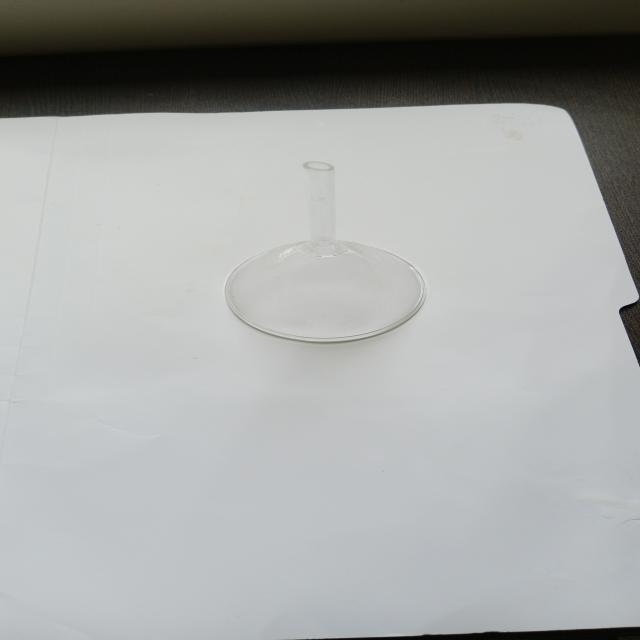funnel: (212, 157, 432, 347)
